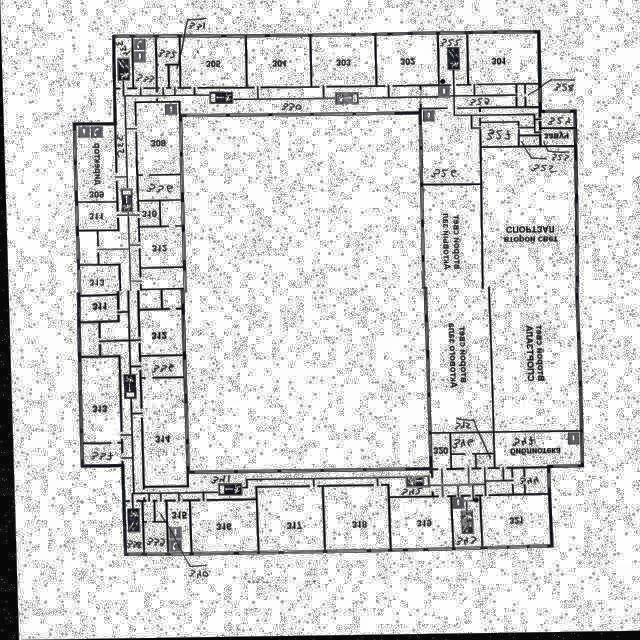room: (96, 86, 428, 501), (485, 148, 578, 434), (422, 187, 486, 433), (140, 378, 184, 487), (420, 110, 480, 185), (254, 486, 320, 554), (322, 487, 386, 552), (468, 33, 538, 87), (479, 497, 548, 548), (188, 501, 253, 554), (311, 36, 375, 88), (79, 358, 116, 444), (246, 38, 309, 88), (377, 36, 438, 87), (136, 103, 179, 175), (492, 433, 577, 469), (181, 39, 244, 87), (76, 126, 115, 203), (388, 499, 448, 549), (421, 87, 515, 110), (431, 470, 509, 497), (138, 309, 180, 356), (139, 228, 182, 268), (480, 109, 538, 137), (450, 498, 477, 550), (439, 36, 467, 86), (140, 502, 164, 553), (79, 266, 118, 296), (133, 38, 155, 88), (166, 502, 187, 554), (137, 176, 180, 201), (78, 296, 116, 323), (77, 203, 115, 230), (448, 434, 491, 455), (114, 38, 132, 88), (139, 357, 180, 378), (480, 125, 517, 148), (123, 503, 139, 555), (140, 269, 181, 289), (81, 445, 118, 464), (429, 435, 447, 470), (78, 324, 97, 356), (157, 38, 178, 65), (541, 131, 574, 148), (78, 232, 95, 264), (160, 201, 181, 226), (138, 201, 158, 227), (523, 471, 544, 495), (541, 115, 572, 129), (449, 456, 473, 469), (510, 470, 521, 495), (525, 87, 538, 108), (157, 66, 168, 88), (474, 455, 491, 469), (169, 66, 179, 88), (519, 138, 538, 147), (517, 86, 524, 108)
